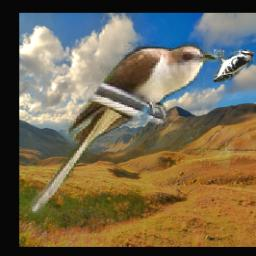Cuckoo: (30, 43, 218, 216)
Woodpecker: (214, 49, 254, 82)
